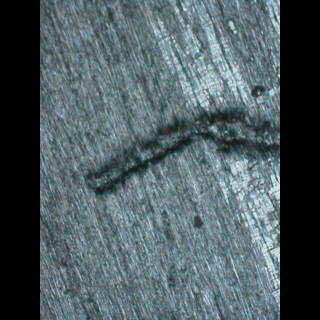d: (83, 84, 279, 201)
